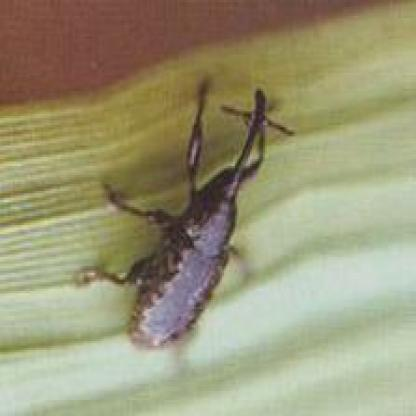rice-bug: (98, 89, 294, 357)
